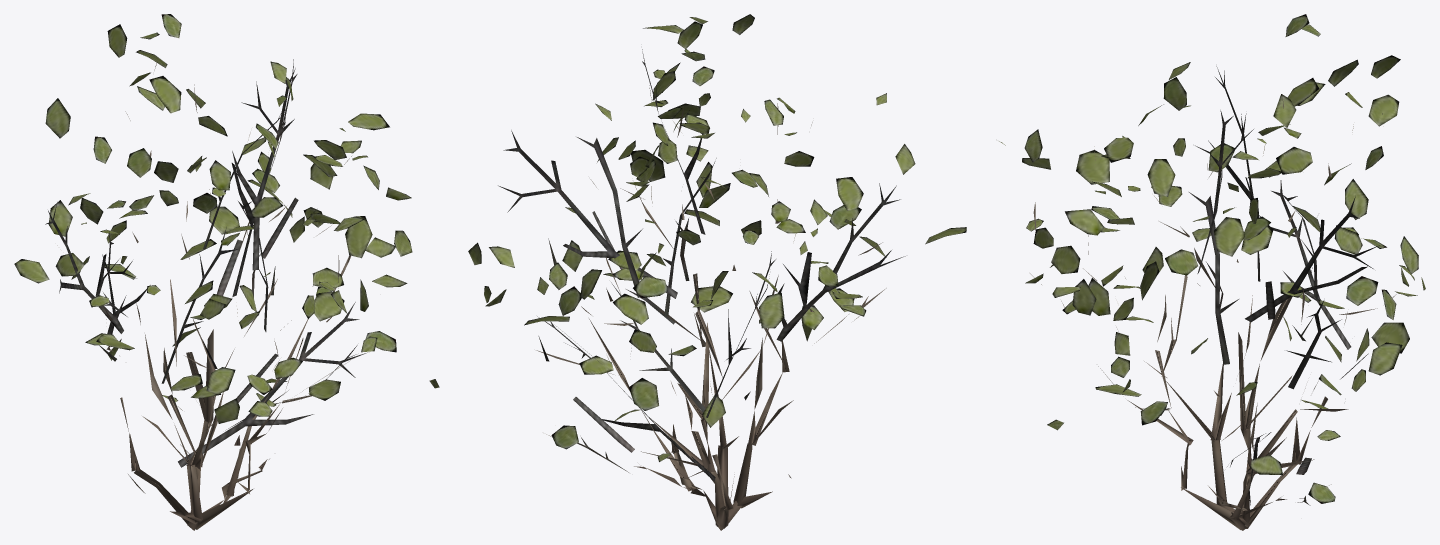
Rendered from arbuste_searsia_a_lod2.glb.
The picture shows the model from 3 angles, left to right: view 1: azimuth 30°, elevation 25°; view 2: azimuth 150°, elevation 25°; view 3: azimuth 270°, elevation 25°; orthographic projection. The views are drawn at different scales.
Visible parts, largest first — view 1: searsia_lucida_a_LOD0; view 2: searsia_lucida_a_LOD0; view 3: searsia_lucida_a_LOD0.
Boxes of the visible parts, x1,y1,x2,y2 form: searsia_lucida_a_LOD0: (14,14,439,530); searsia_lucida_a_LOD0: (468,14,966,530); searsia_lucida_a_LOD0: (999,14,1425,530).
Size of the model in its own units: 1.71 by 2.21 by 1.68.
Materials: 2 (2 with a texture image).
